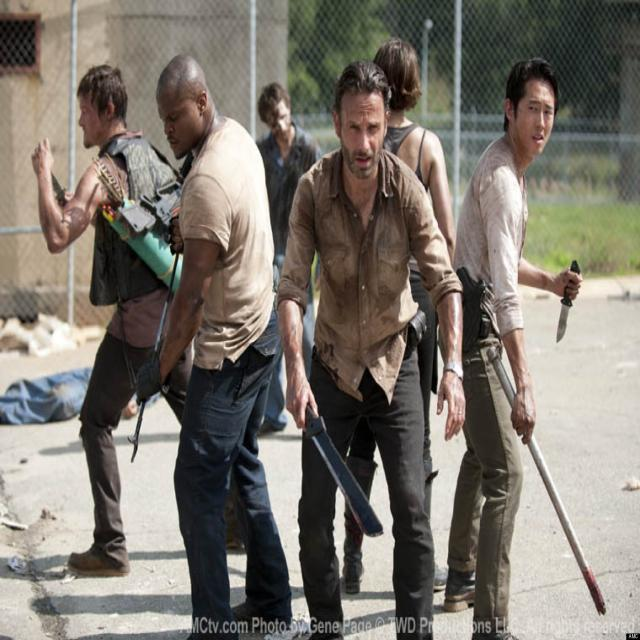body: (30, 61, 261, 582), (272, 58, 468, 640), (128, 52, 294, 640), (441, 55, 586, 640), (337, 35, 458, 596), (252, 80, 326, 433)
